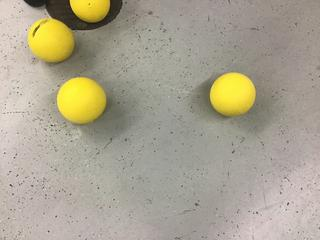power_cell: (58, 76, 110, 127), (25, 20, 82, 57), (211, 70, 255, 117), (68, 1, 114, 22)
